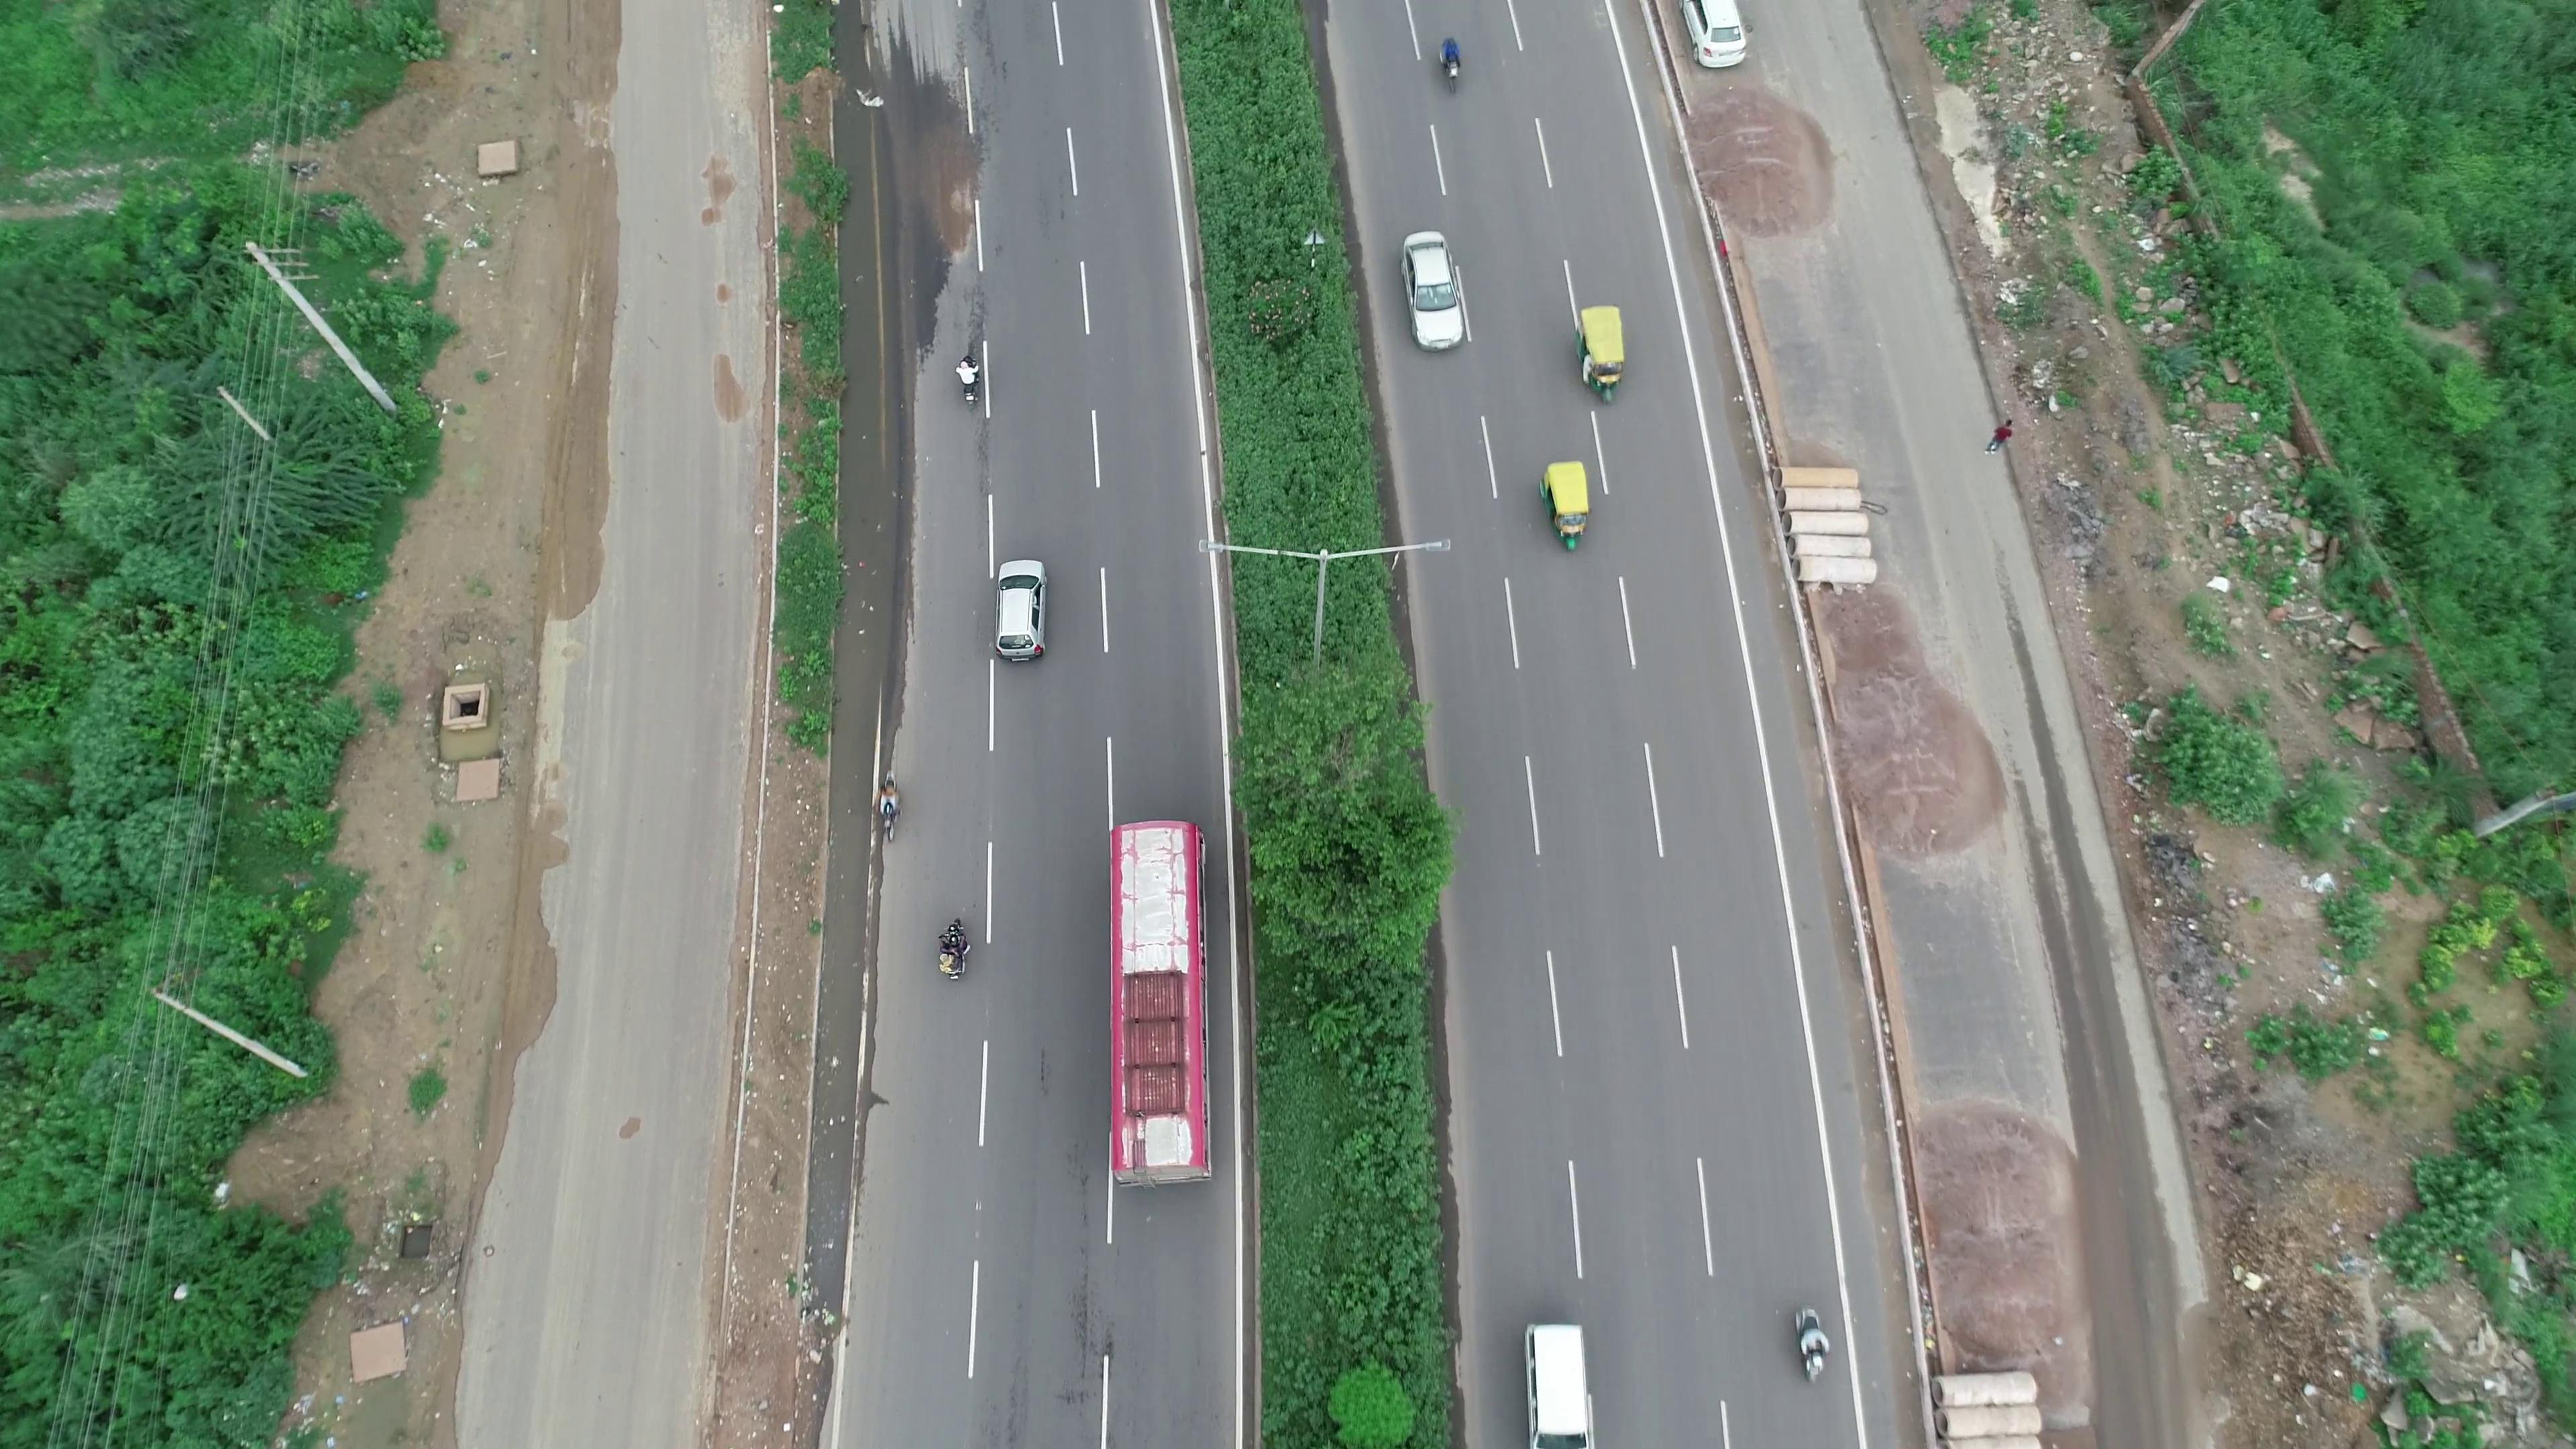Muddy_road: (541, 157, 616, 625), (1840, 619, 1971, 819), (1697, 106, 1828, 241), (918, 143, 993, 260)
Waterlogging: (828, 99, 909, 717)
